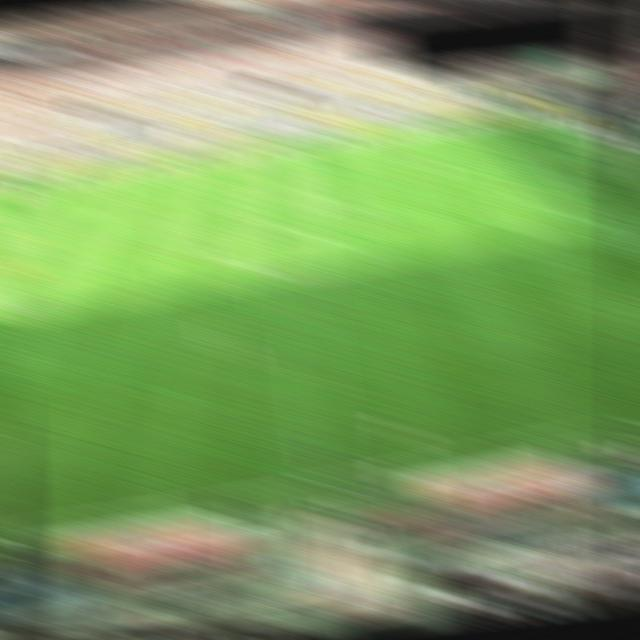bigarea_top_inner: (54, 191, 95, 213), (475, 134, 514, 156)
bigarea_top_outter: (559, 123, 598, 144)
bottom_arc_area_intersection: (566, 206, 606, 230), (0, 292, 18, 319)
corner: (0, 172, 40, 194), (518, 101, 558, 122)
halfcircle_bottom: (278, 253, 323, 284)
halfcircle_top: (270, 185, 314, 214)
midline_bottom_intersection: (307, 474, 350, 497)
midline_top_intersection: (264, 135, 305, 156)
smallarea_top_inner: (569, 150, 608, 171)
smallarea_top_outter: (600, 144, 638, 166)
top_arc_area_intersection: (27, 231, 67, 254), (510, 162, 548, 185)
